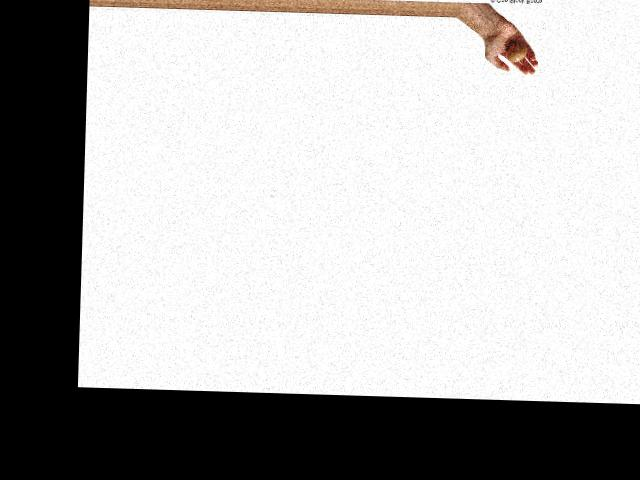egg: (507, 42, 527, 61)
